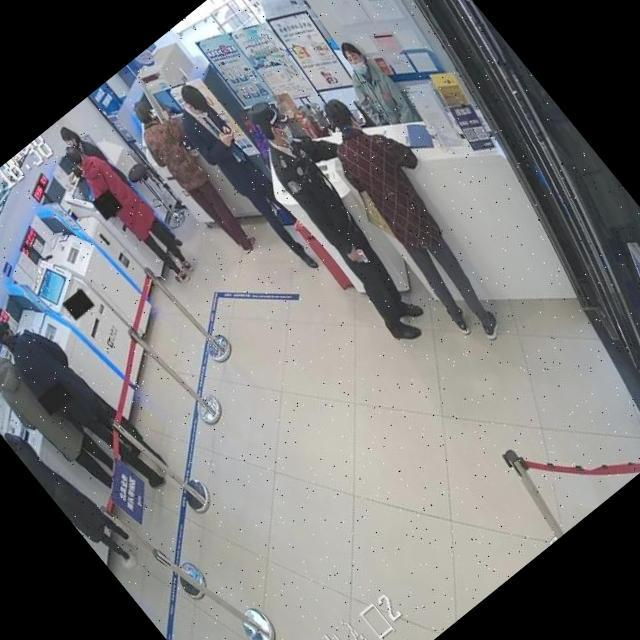person: (294, 77, 536, 351), (228, 80, 465, 347), (0, 294, 177, 513), (0, 292, 175, 510), (160, 78, 333, 279), (0, 395, 147, 578), (117, 90, 270, 265), (56, 127, 204, 296), (0, 325, 125, 506), (63, 119, 180, 256), (54, 114, 170, 248), (322, 34, 421, 142)
